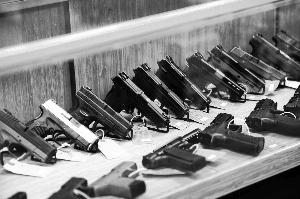handgun: (0, 101, 54, 169), (158, 50, 212, 115), (142, 128, 204, 179), (38, 91, 94, 146), (73, 78, 129, 131), (188, 50, 242, 103), (110, 66, 162, 121), (135, 57, 181, 108), (205, 115, 265, 152), (92, 158, 146, 194), (252, 38, 294, 81), (237, 50, 281, 91), (210, 53, 255, 92), (250, 100, 300, 133), (269, 26, 299, 73), (48, 176, 106, 198), (278, 85, 300, 112), (5, 183, 35, 198)
